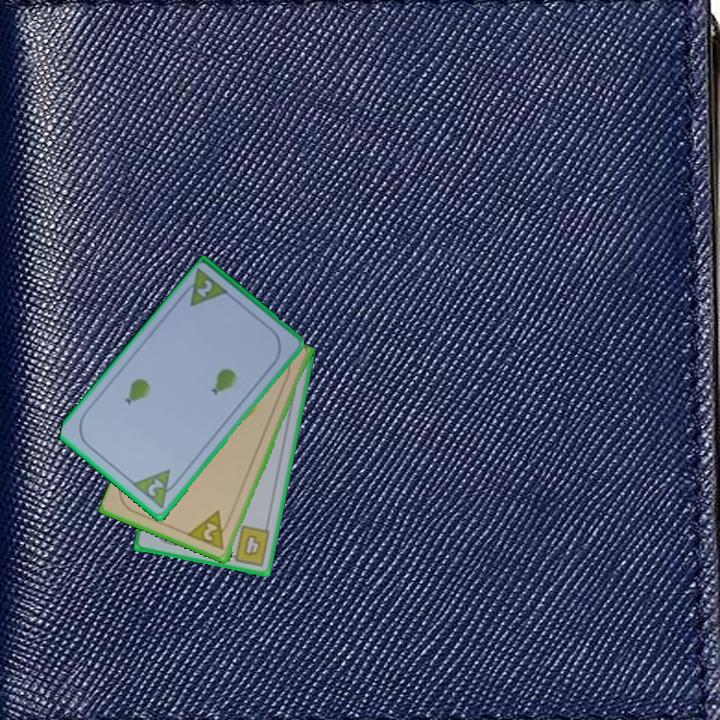2p: (186, 507, 233, 553), (144, 475, 167, 500), (193, 276, 216, 301)
4b: (224, 522, 273, 569)
